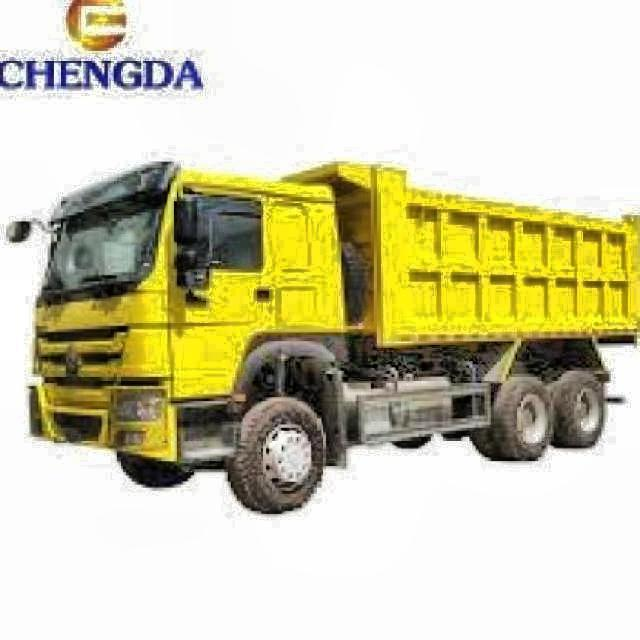dump_truck: (3, 135, 640, 521)
